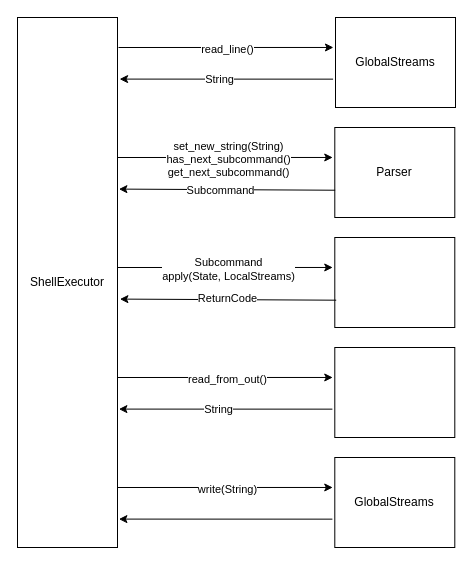
Some shapes in this 473 by 565 pixel diagram are drawn without their labels. Here are the shapes that lost their labels. From the top down, the centre of each, then its label:
(x=394, y=282): Program
(x=394, y=392): LocalStreams
